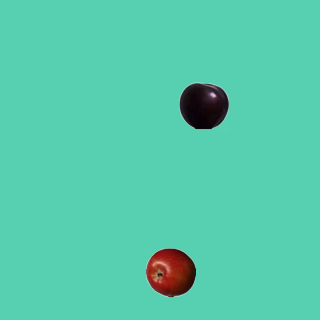Apple Braeburn: (145, 247, 195, 297)
Cherry Wax Black: (178, 80, 228, 130)
